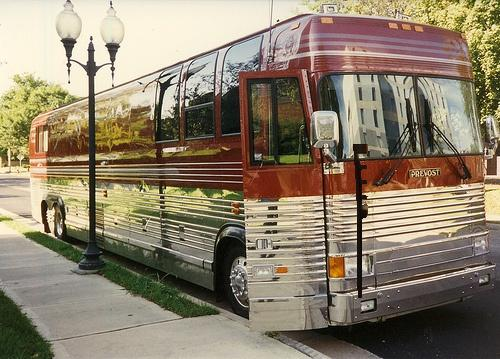tampered: (354, 145, 368, 298)
